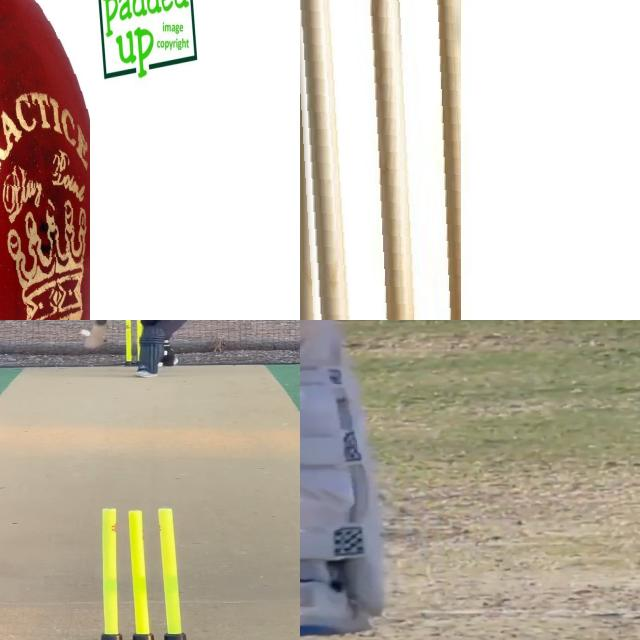Cricket ball: (0, 0, 89, 320), (79, 328, 93, 336)
Stumps: (300, 0, 461, 320), (83, 506, 201, 640)
